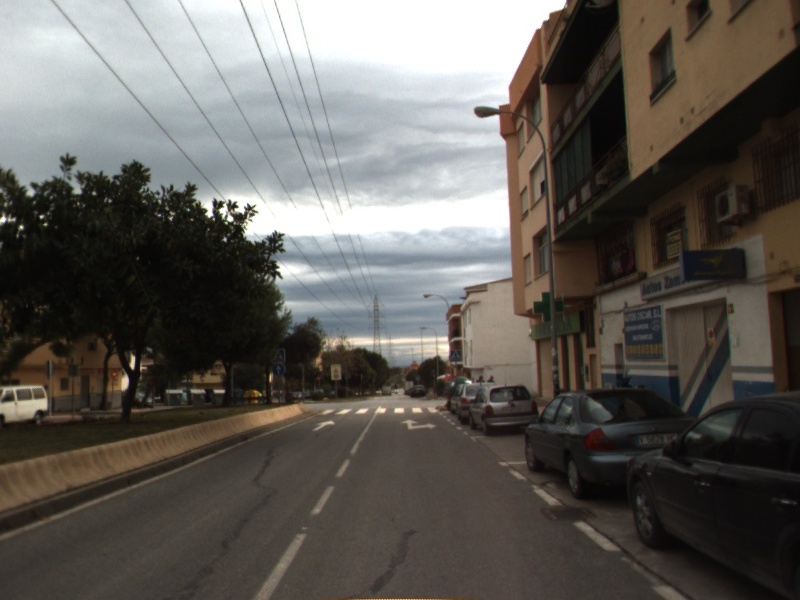STRAIGHT: (310, 418, 338, 433)
STRAIGHT_RIGHT: (398, 417, 439, 432)
